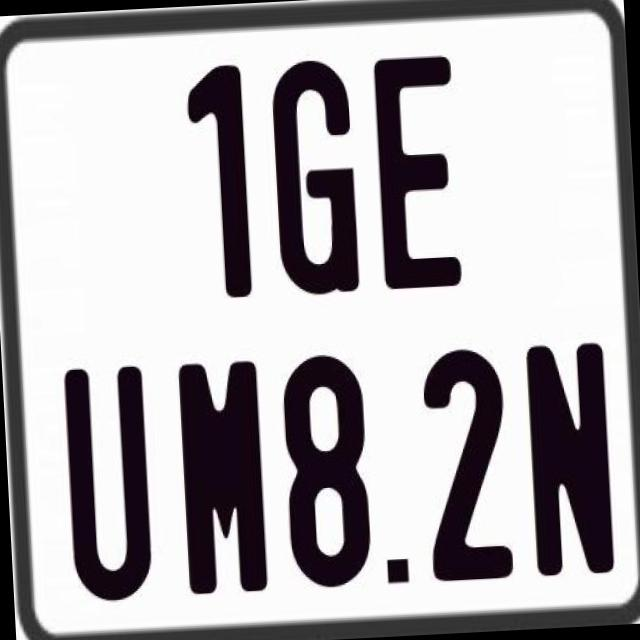1: (185, 60, 255, 296)
2: (420, 344, 519, 579)
8: (278, 350, 373, 588)
E: (372, 55, 466, 298)
G: (266, 54, 362, 296)
M: (175, 359, 265, 598)
N: (523, 336, 619, 580)
U: (61, 366, 153, 607)
